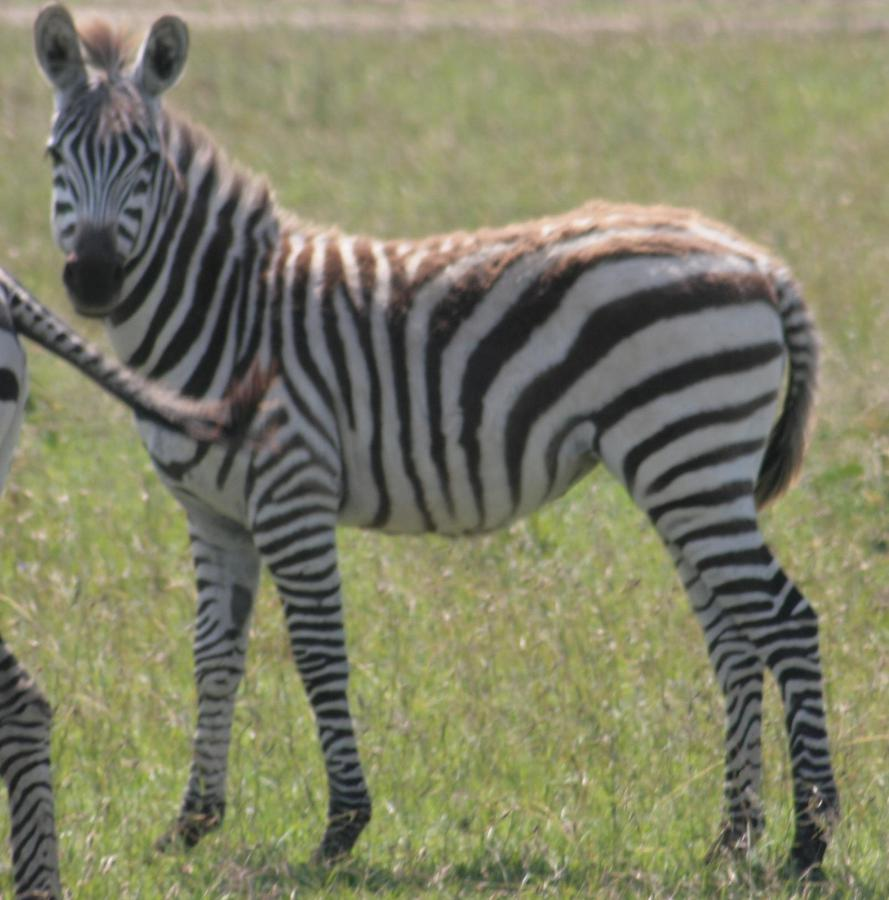zebra_plains: (164, 176, 807, 549)
